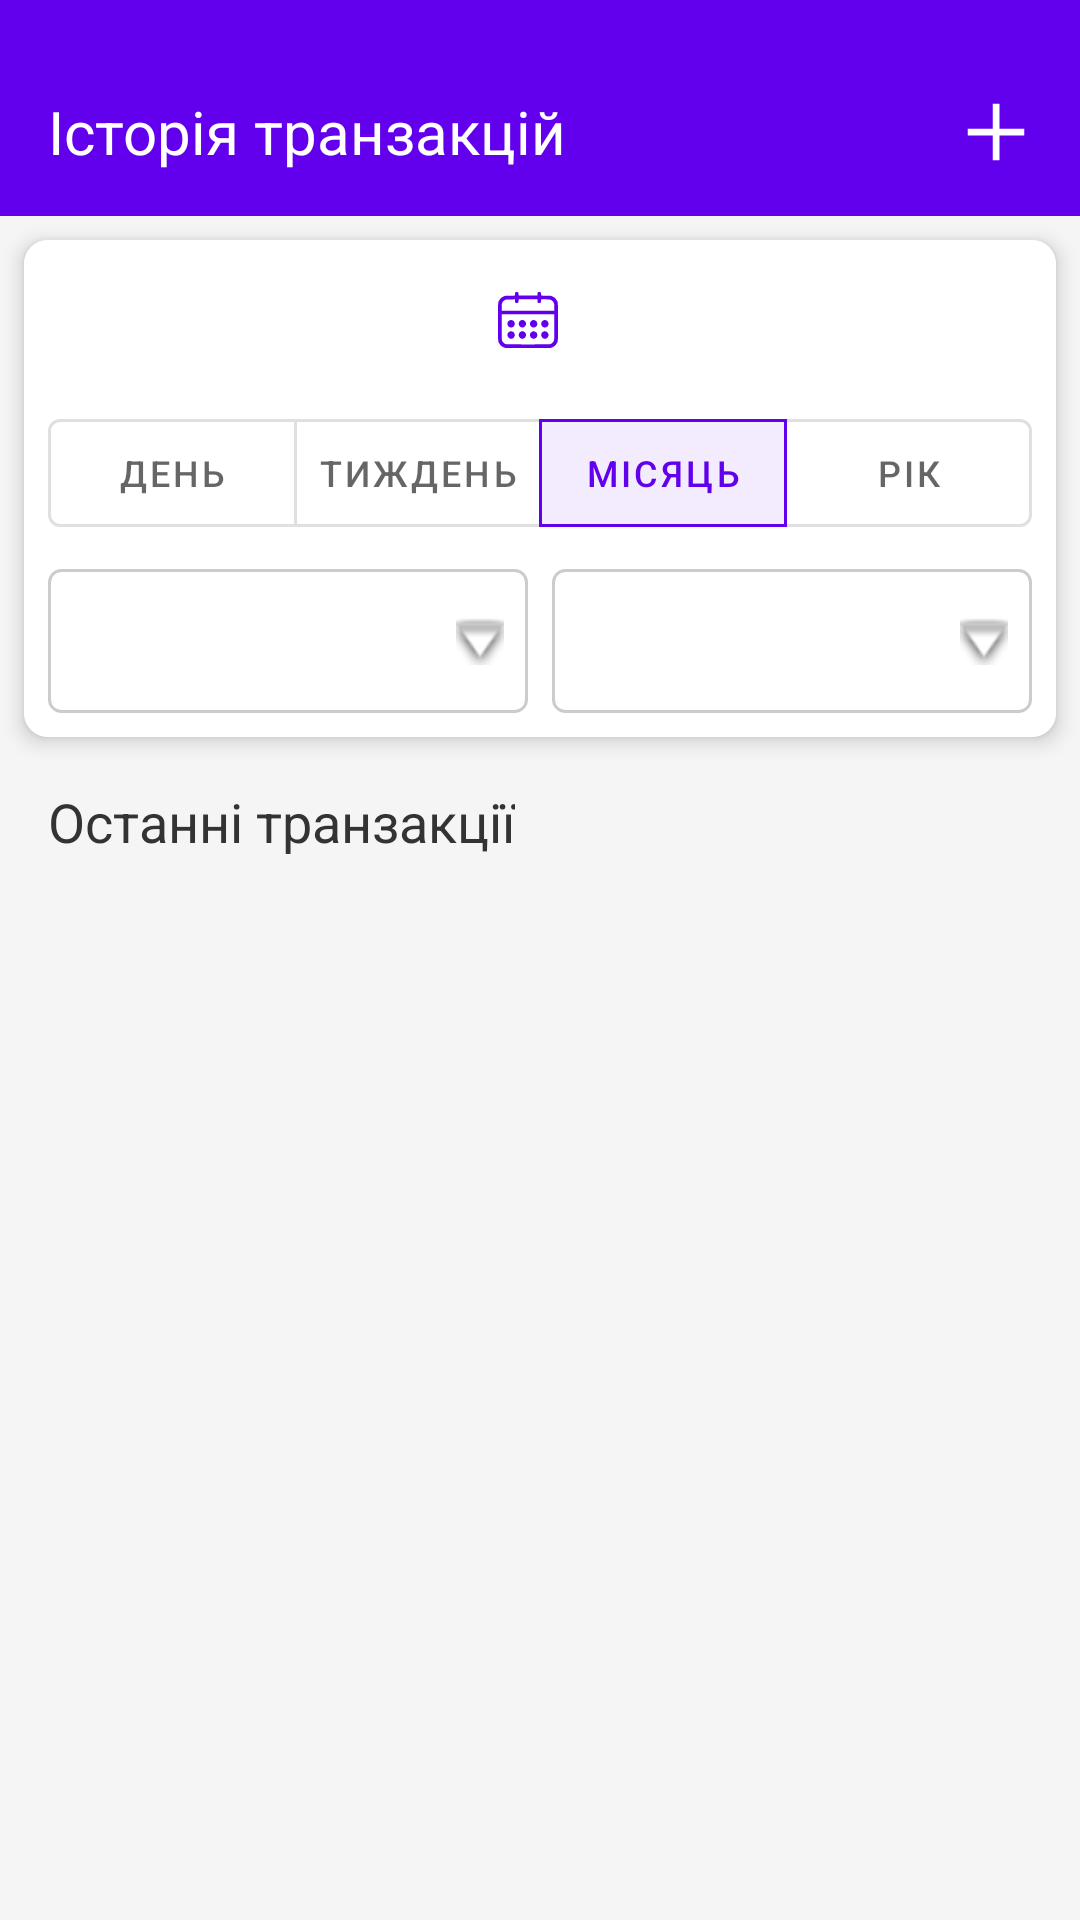

Locate icon controls on the screen. Image size 1080 × 1920, boxes as (x1, y1, x2, y2).
calendar: (498, 292, 558, 348)
Додати транзакцію: (967, 103, 1025, 161)
